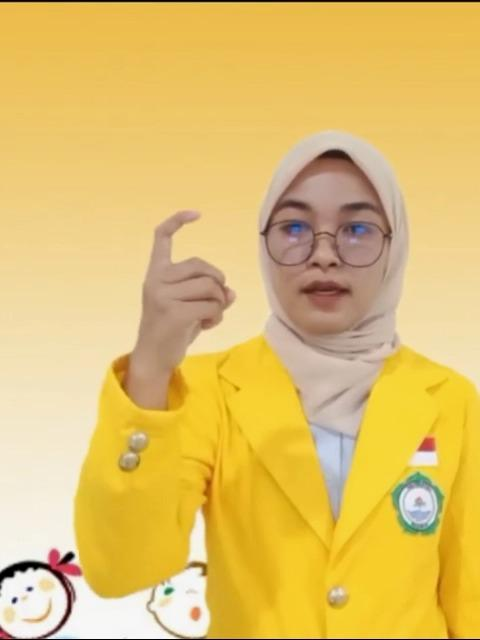X: (134, 200, 240, 364)
